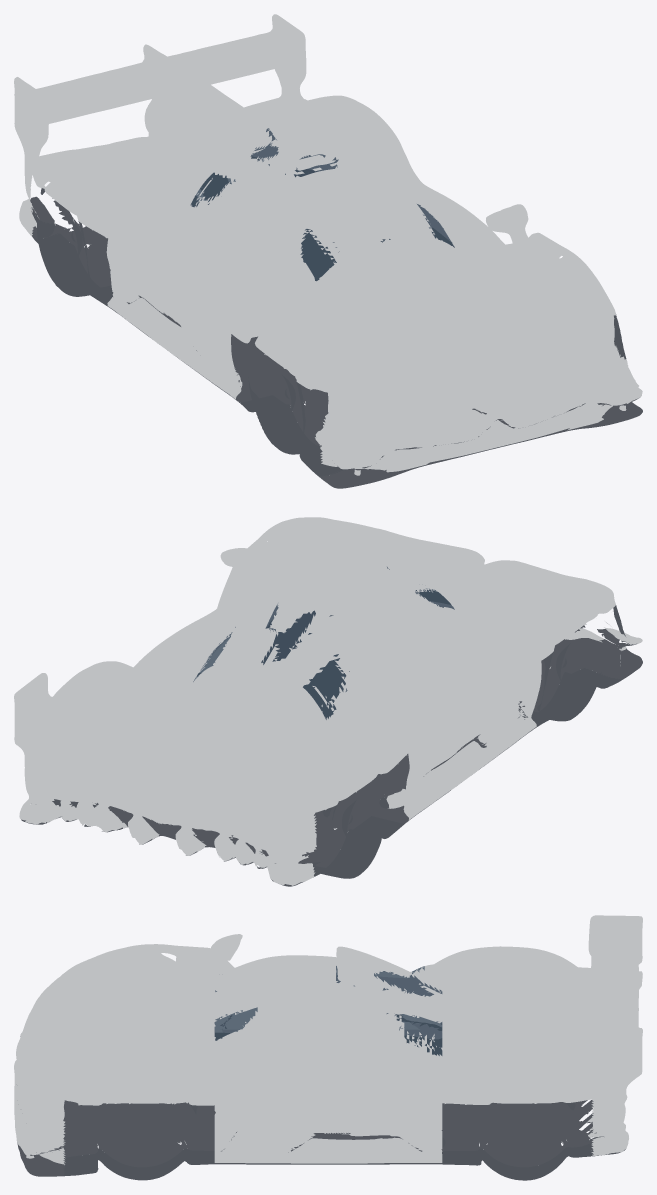
Rendered from bmwlmdh.glb.
The picture shows the model from 3 angles, top to bottom: view 1: azimuth 30°, elevation 25°; view 2: azimuth 150°, elevation 25°; view 3: azimuth 270°, elevation 25°; orthographic projection. The views are drawn at different scales.
Parts seen in each view (by area): view 1: body, carbon, tire, glass; view 2: body, carbon, tire, glass; view 3: body, carbon, tire, glass.
Boxes of the visible parts, left/top/right/bottom form: body: left=14, top=14, right=642, bottom=475; carbon: left=30, top=157, right=642, bottom=488; tire: left=31, top=169, right=626, bottom=476; glass: left=190, top=128, right=454, bottom=280; body: left=14, top=517, right=642, bottom=885; carbon: left=21, top=590, right=642, bottom=886; tire: left=52, top=605, right=625, bottom=878; glass: left=193, top=567, right=454, bottom=719; body: left=14, top=915, right=642, bottom=1164; carbon: left=17, top=1015, right=625, bottom=1176; tire: left=63, top=1102, right=593, bottom=1180; glass: left=214, top=966, right=442, bottom=1055.
Size of the model in its own units: 1.01 by 0.5697 by 1.96.
